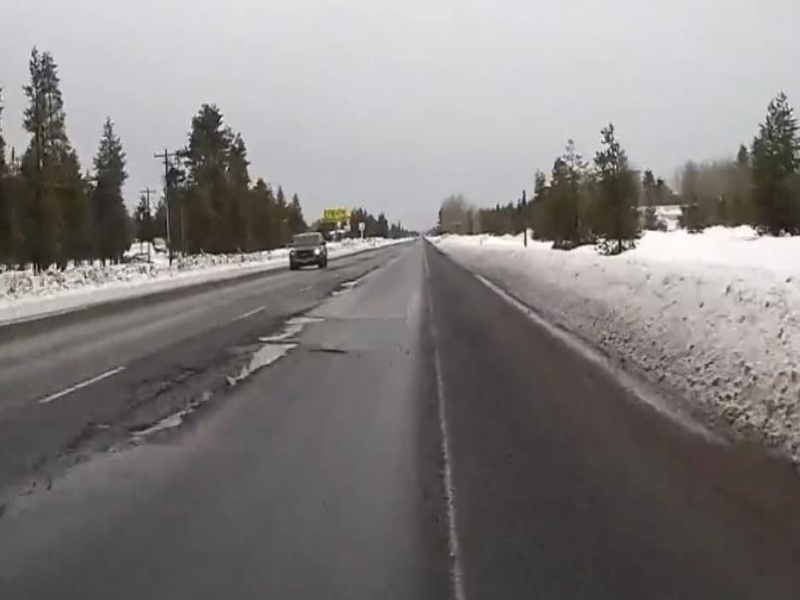pothole: (219, 334, 302, 390)
